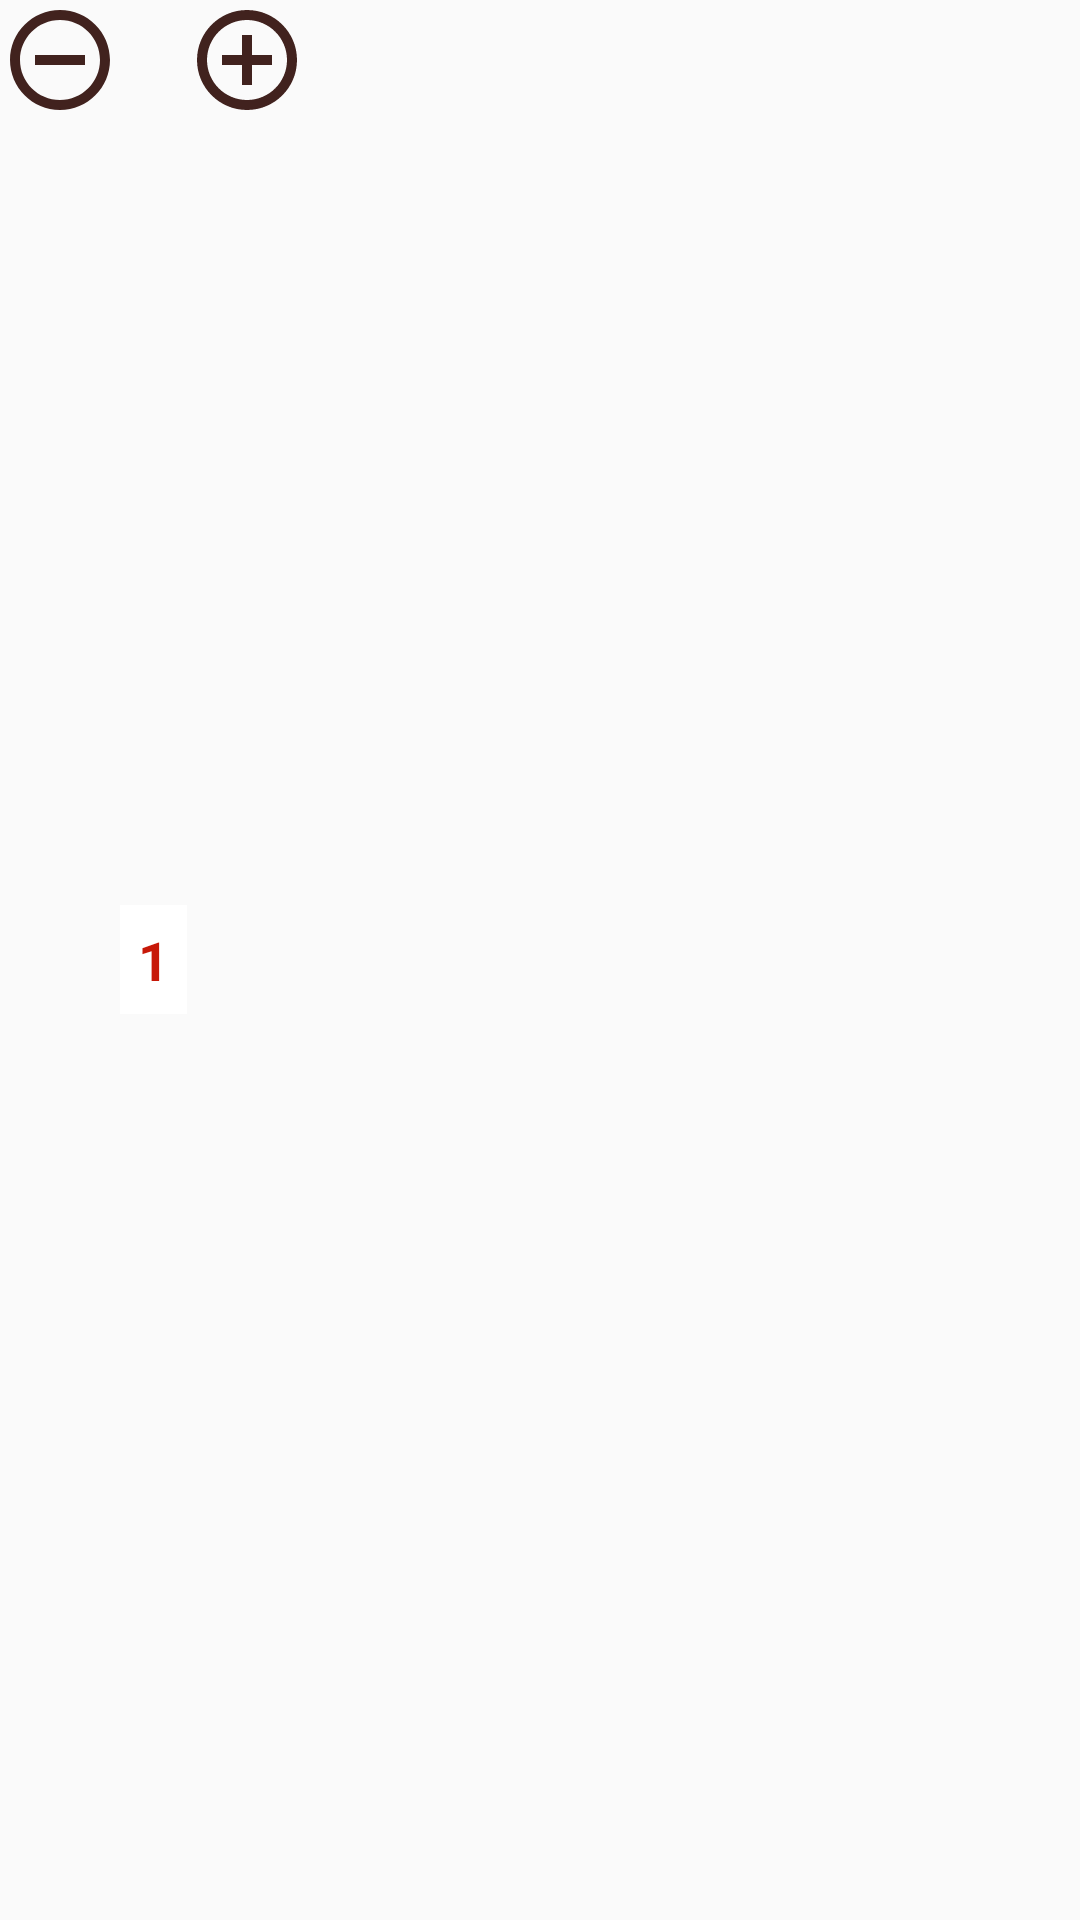

Locate icon controls on the screen. Image size 1080 x 1920, boxes as [x1=x1, y1=y1, x2=x2, y2=y2].
add circle: [x1=197, y1=10, x2=297, y2=110]
remove circle: [x1=10, y1=10, x2=110, y2=110]
